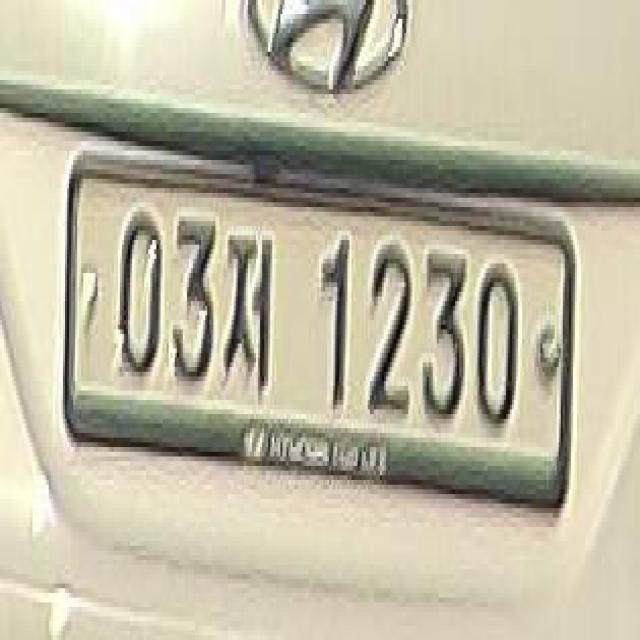illegal_plate: (65, 144, 574, 528)
